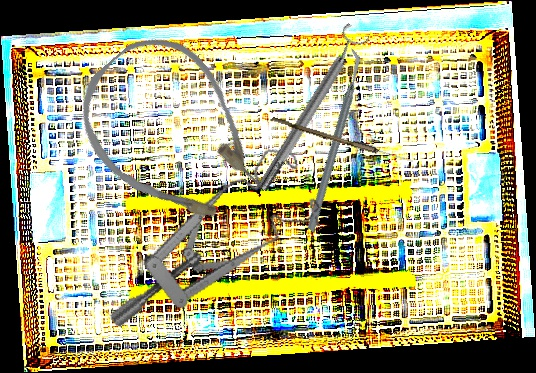Cannula: (56, 15, 291, 256)
Chopper: (246, 48, 419, 233)
Fixation Ring: (247, 22, 373, 196)
Speculum: (77, 140, 338, 331)
Surgical Spoon: (270, 116, 415, 165)
